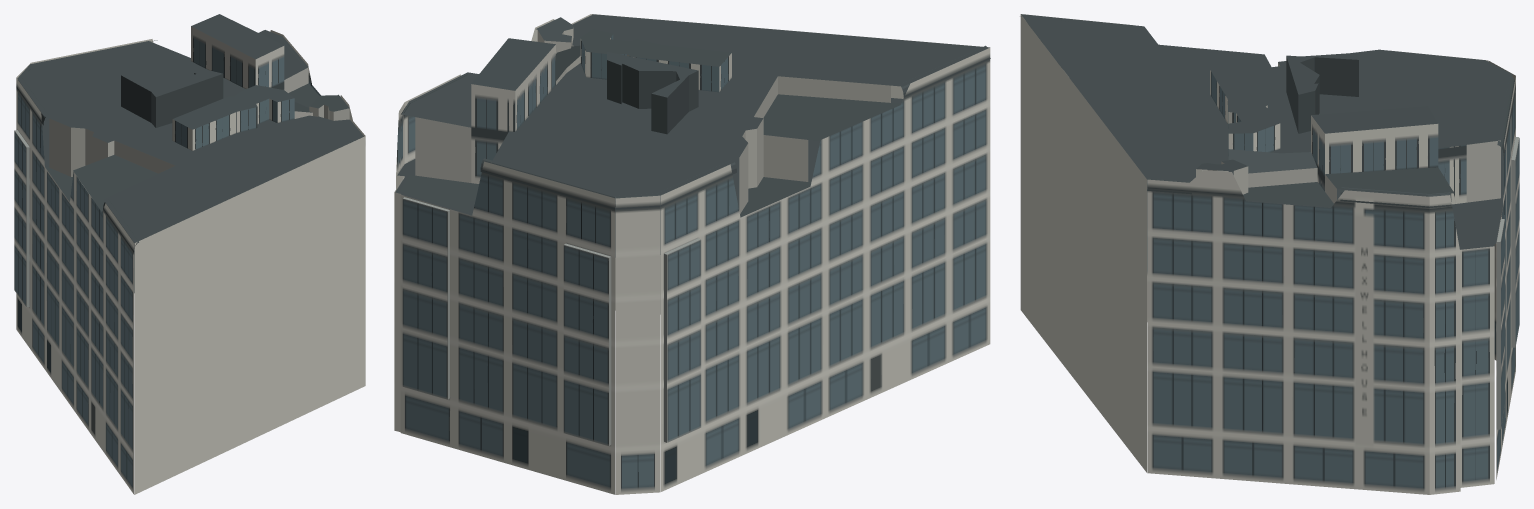
3 views of the same model, side by side, from view 1: azimuth 30°, elevation 25°; view 2: azimuth 150°, elevation 25°; view 3: azimuth 270°, elevation 25° (orthographic). The views are drawn at different scales.
Visible parts, largest first — view 1: 0363100012165119; view 2: 0363100012165119; view 3: 0363100012165119.
Part boxes in pixels (left/top/right/bottom): 0363100012165119: left=14, top=14, right=365, bottom=494; 0363100012165119: left=394, top=14, right=990, bottom=494; 0363100012165119: left=1020, top=14, right=1519, bottom=494.
Bounding box in the file's own units: 30.1 × 25.49 × 34.32.
3 materials, 1 textured.
